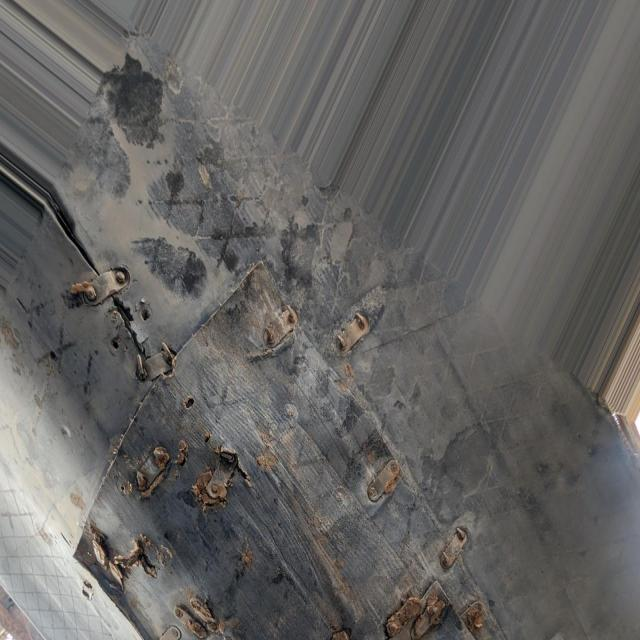patch work: (46, 219, 517, 640)
